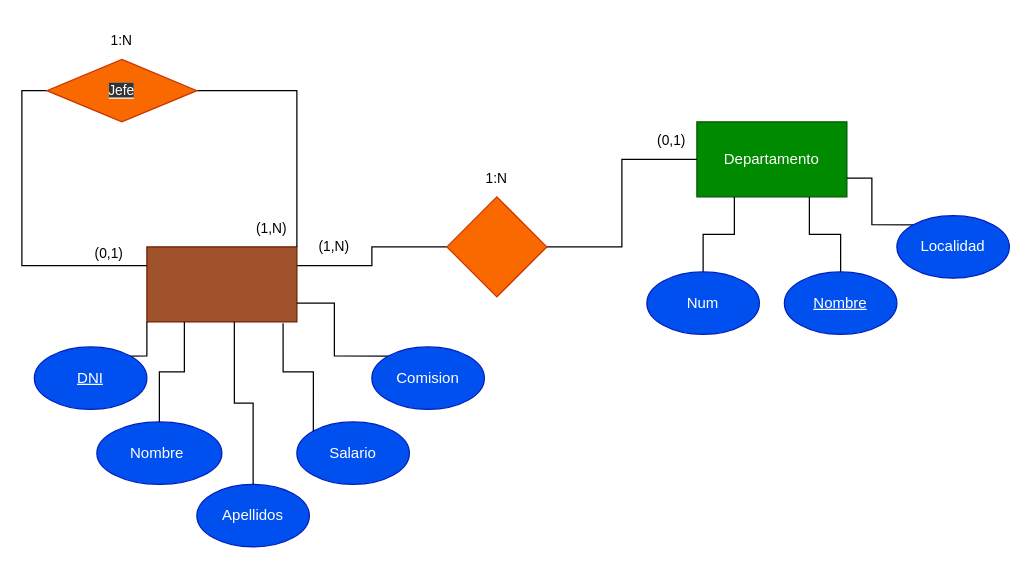
The diagram is 1031 pixels wide and 569 high, and some of its shapes have lost their labels. Here are the shapes that lost their labels. From the top down, the centre of each, then its label:
the point at 496,246: Pertenece
the point at 221,284: Empleado
